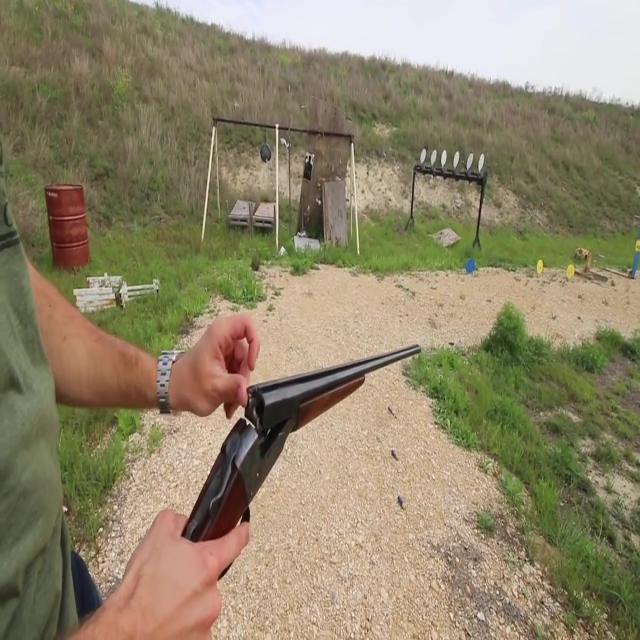Weapon: (138, 332, 515, 600)
